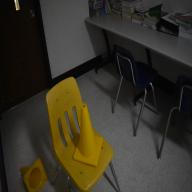cone: (72, 103, 104, 167), (20, 157, 48, 192)
